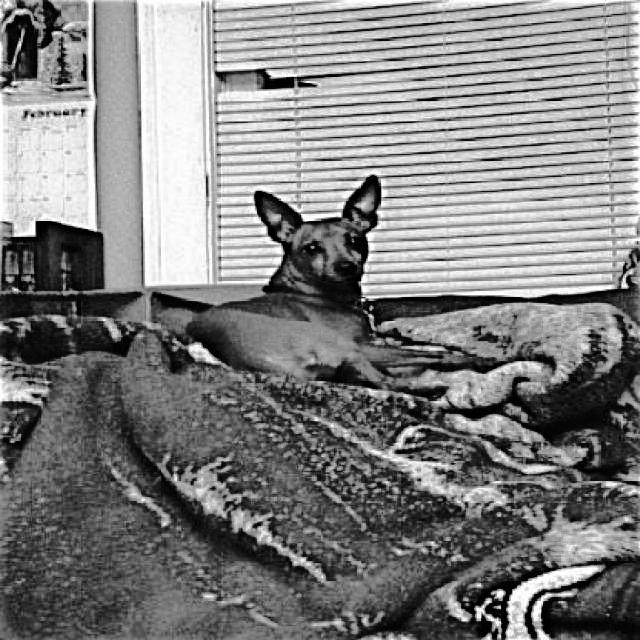Dog: (179, 171, 507, 402)
